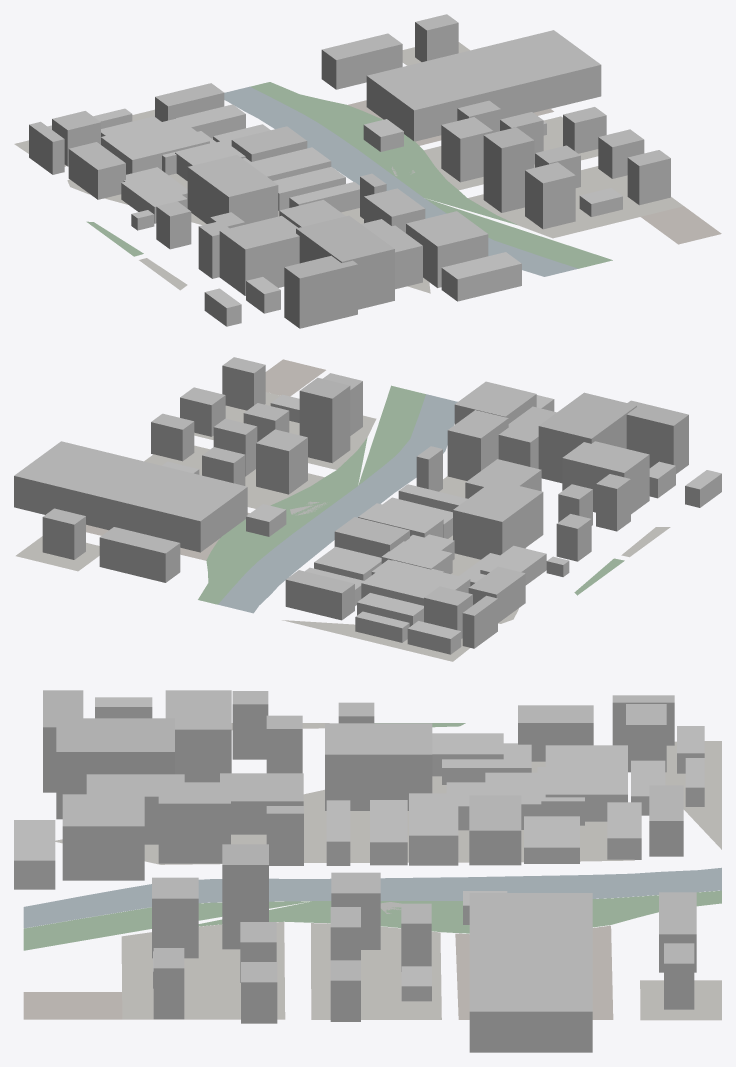
The model's file is 118_108_mid.glb.
The picture shows the model from 3 angles, top to bottom: view 1: azimuth 30°, elevation 25°; view 2: azimuth 150°, elevation 25°; view 3: azimuth 270°, elevation 25°; orthographic projection. The views are drawn at different scales.
Size of the model in its own units: 557 by 67.1 by 507.
